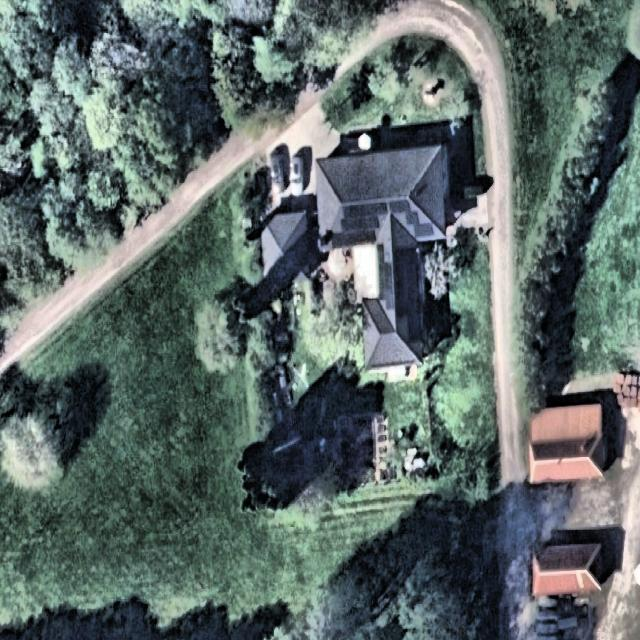roof_pv: (334, 199, 388, 247), (390, 195, 436, 241), (374, 241, 395, 319)
